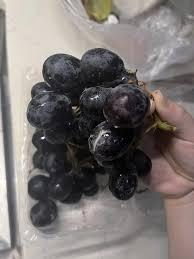Grape Rotten: (26, 47, 174, 227)
